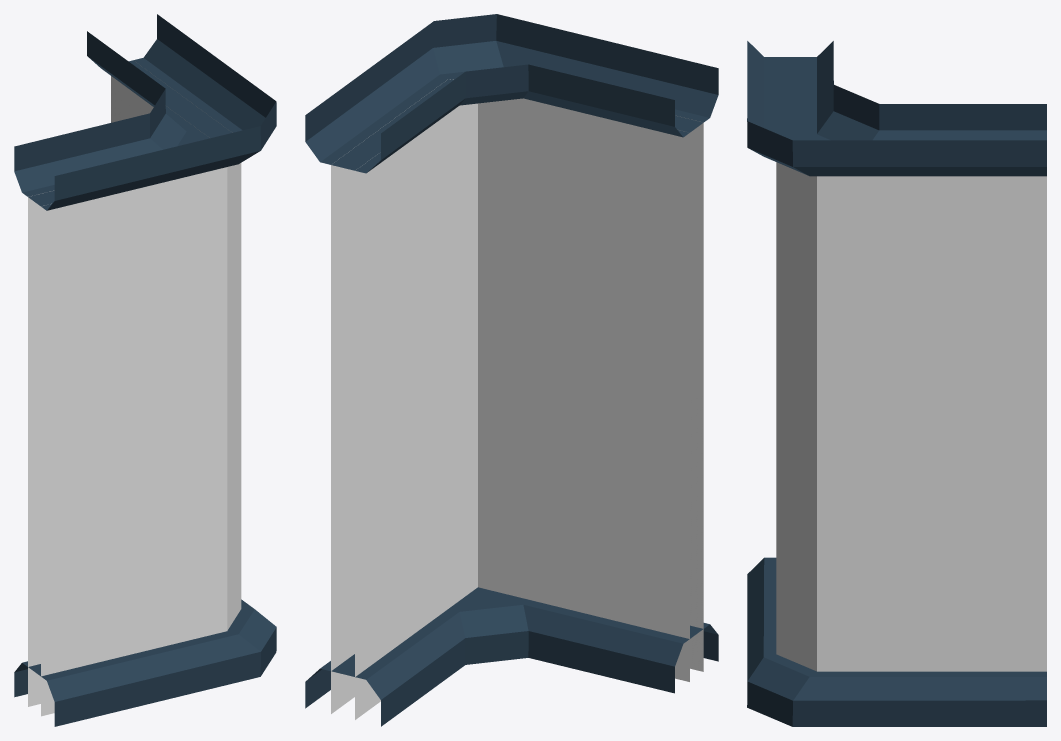
File: SM_CornerModule.fbx
3 renders of one model, left to right at view 1: azimuth 30°, elevation 25°; view 2: azimuth 150°, elevation 25°; view 3: azimuth 270°, elevation 25°, orthographic. The views are drawn at different scales.
Visible parts, largest first — view 1: Cube.005; view 2: Cube.005; view 3: Cube.005.
Part boxes in pixels (x1=…): Cube.005: x1=14, y1=14, x2=276, y2=726; Cube.005: x1=305, y1=14, x2=718, y2=726; Cube.005: x1=747, y1=41, x2=1046, y2=726.
Size of the model in its own units: 99.98 by 99.96 by 216.
